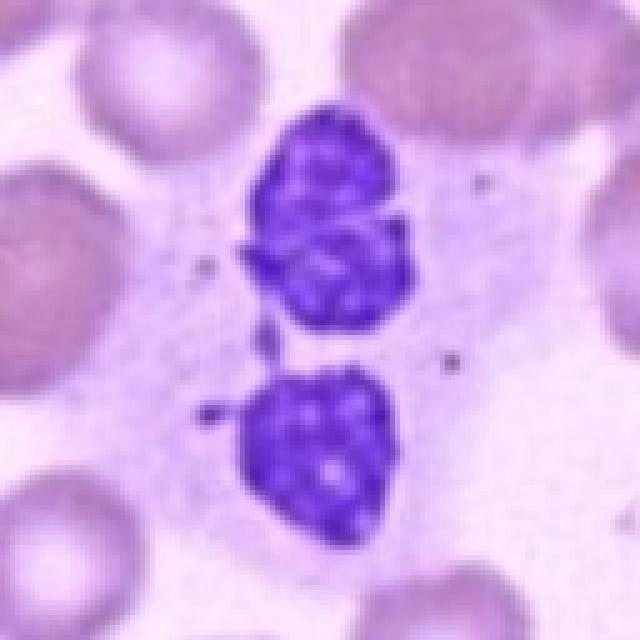neutro: (98, 157, 563, 574)
